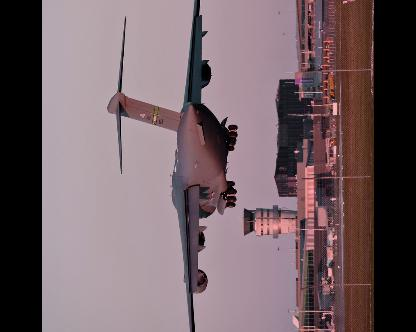C2: (106, 0, 239, 329)
